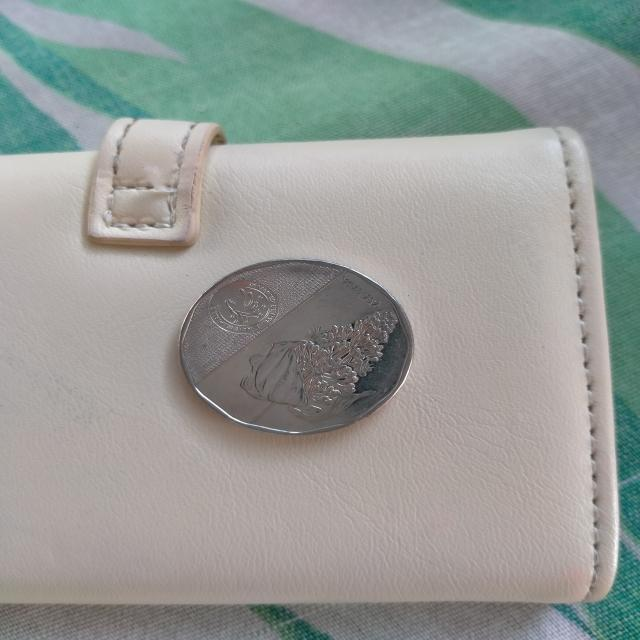10_New_Back: (218, 303, 406, 432)
